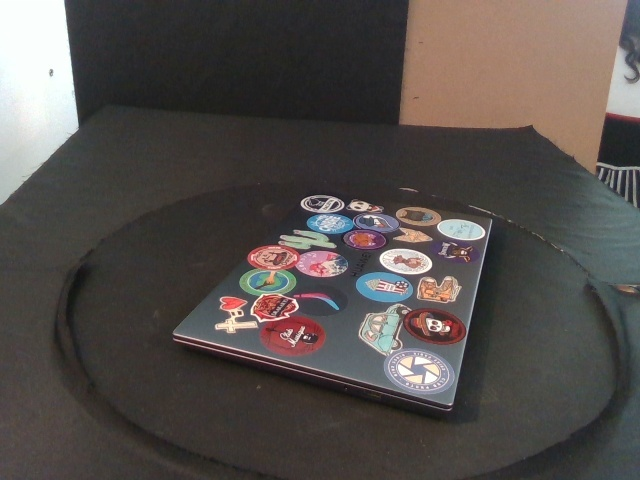laptop: (171, 188, 493, 417)
